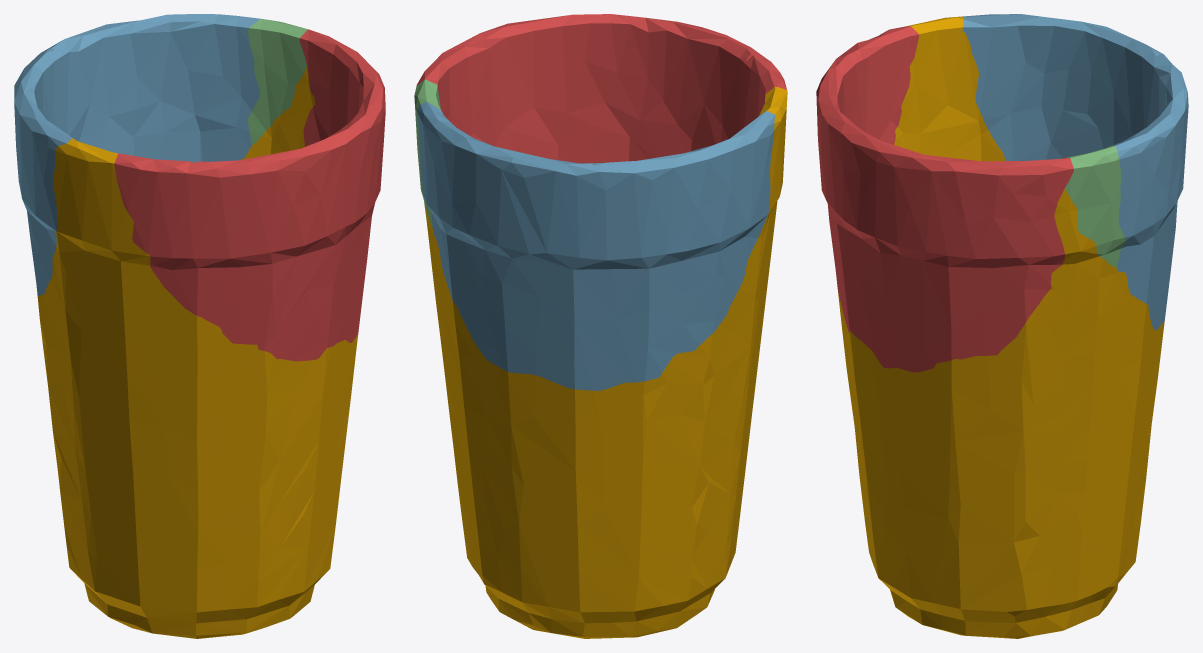
File: mode_3_4pcs.glb
The picture shows the model from 3 angles, left to right: view 1: azimuth 30°, elevation 25°; view 2: azimuth 150°, elevation 25°; view 3: azimuth 270°, elevation 25°; orthographic projection.
Visible parts, largest first — view 1: piece_0.obj, piece_1.obj, piece_2.obj, piece_3.obj; view 2: piece_0.obj, piece_2.obj, piece_1.obj, piece_3.obj; view 3: piece_0.obj, piece_1.obj, piece_2.obj, piece_3.obj.
Part boxes in pixels (x1,y1,x2,y2): piece_0.obj: (37,66,358,638); piece_1.obj: (114,29,385,361); piece_2.obj: (14,14,260,295); piece_3.obj: (247,18,307,144); piece_0.obj: (424,87,787,638); piece_2.obj: (417,102,774,390); piece_1.obj: (416,14,786,163); piece_3.obj: (414,79,440,227); piece_0.obj: (837,16,1164,638); piece_1.obj: (816,26,1073,372); piece_2.obj: (962,14,1188,330); piece_3.obj: (1065,145,1125,267).
Bounding box in the file's own units: 0.6667 × 1 × 0.6655.
